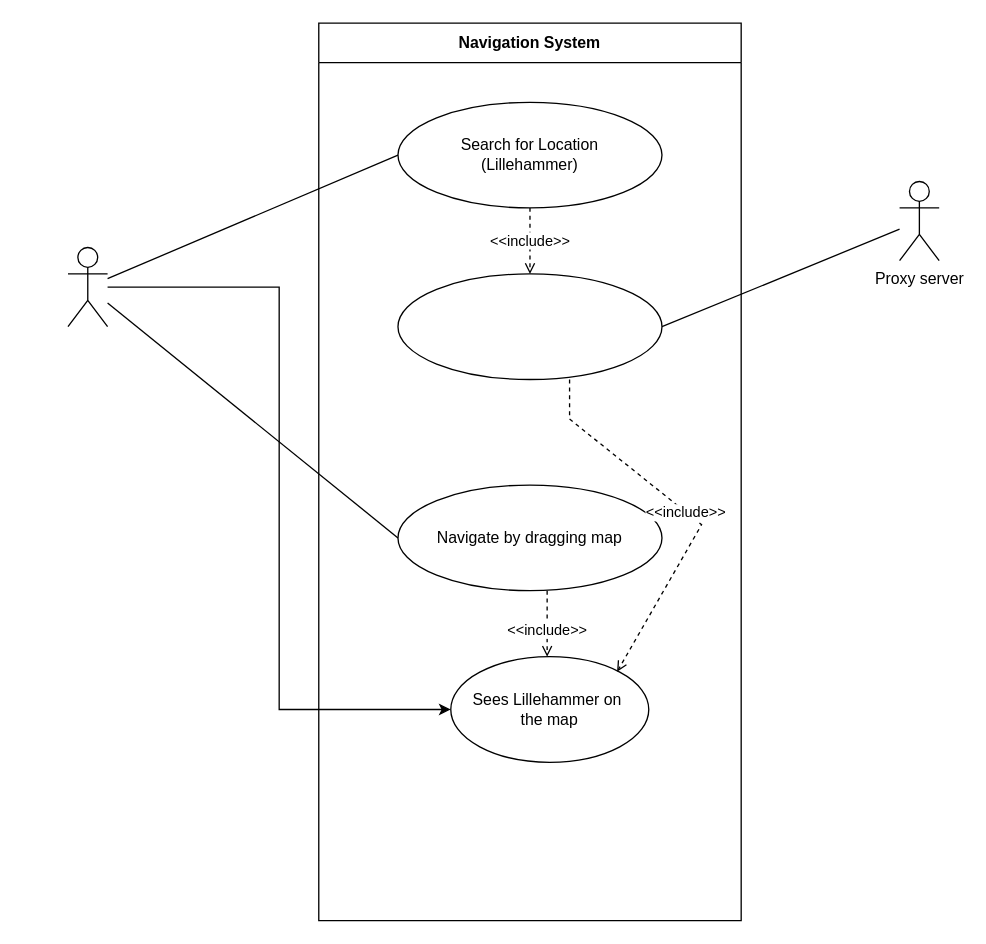
The diagram is 986 pixels wide and 944 high, and some of its shapes have lost their labels. Here are the shapes that lost their labels. From the top down, the box of each, then its label:
(67, 246, 108, 327): Mushroom forager
(397, 273, 662, 380): Retrieve Address/Place Info (Norwegian Mapping Authority)
